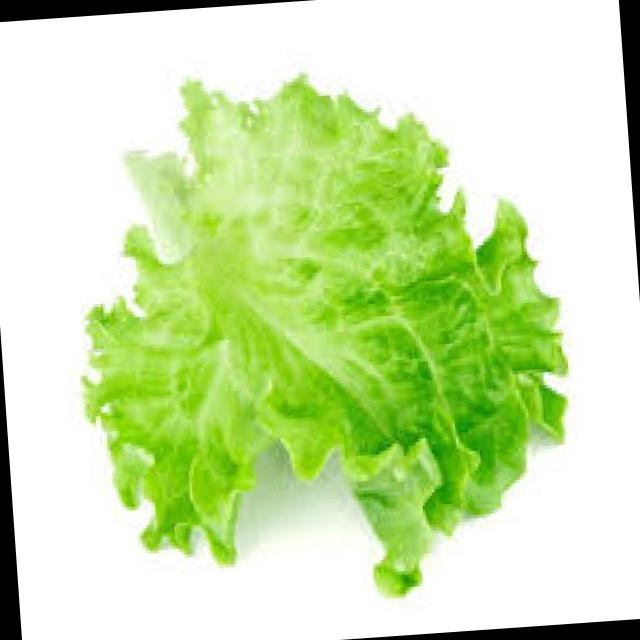Lettuce-Ready-to-Harvest: (85, 77, 566, 593)
